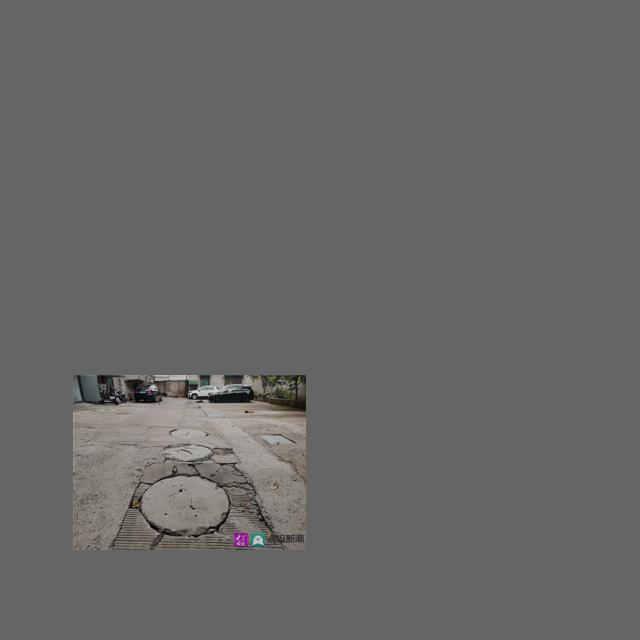broke: (124, 453, 262, 544)
